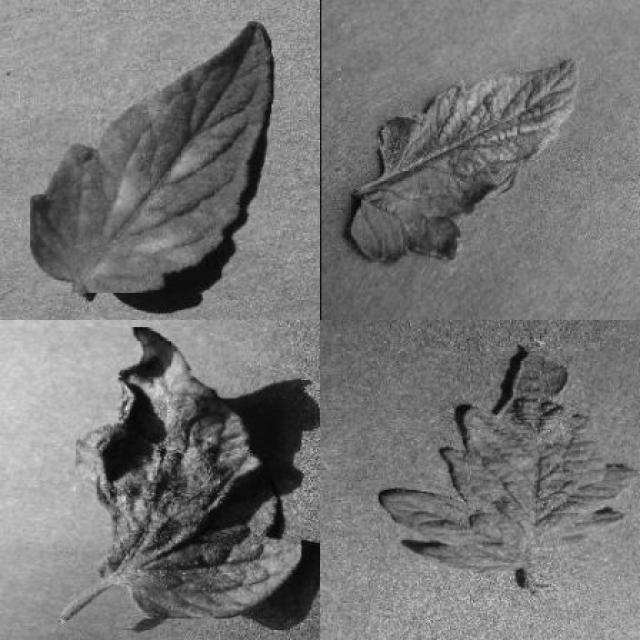Late Blight: (77, 328, 302, 619)
Leaf Mold: (30, 22, 271, 294)
Mosaic Virus: (378, 347, 638, 573), (347, 57, 580, 266)
